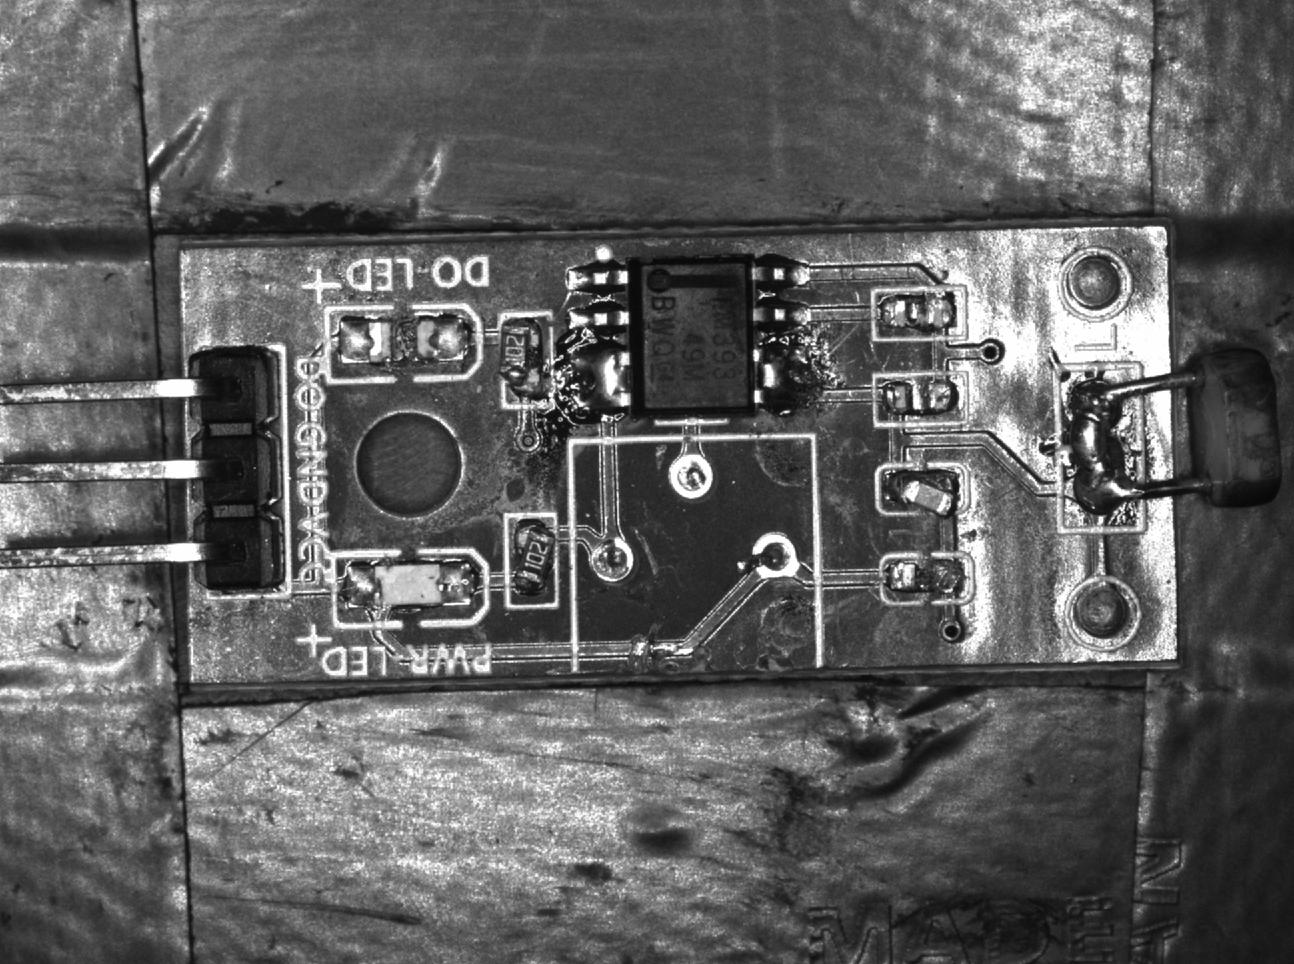bridge: (1056, 369, 1140, 531), (566, 337, 636, 426), (758, 335, 811, 419)
lifted: (500, 518, 559, 606), (497, 313, 550, 409), (878, 465, 967, 520)
miss: (871, 373, 968, 429), (869, 290, 965, 341), (885, 555, 970, 602)
